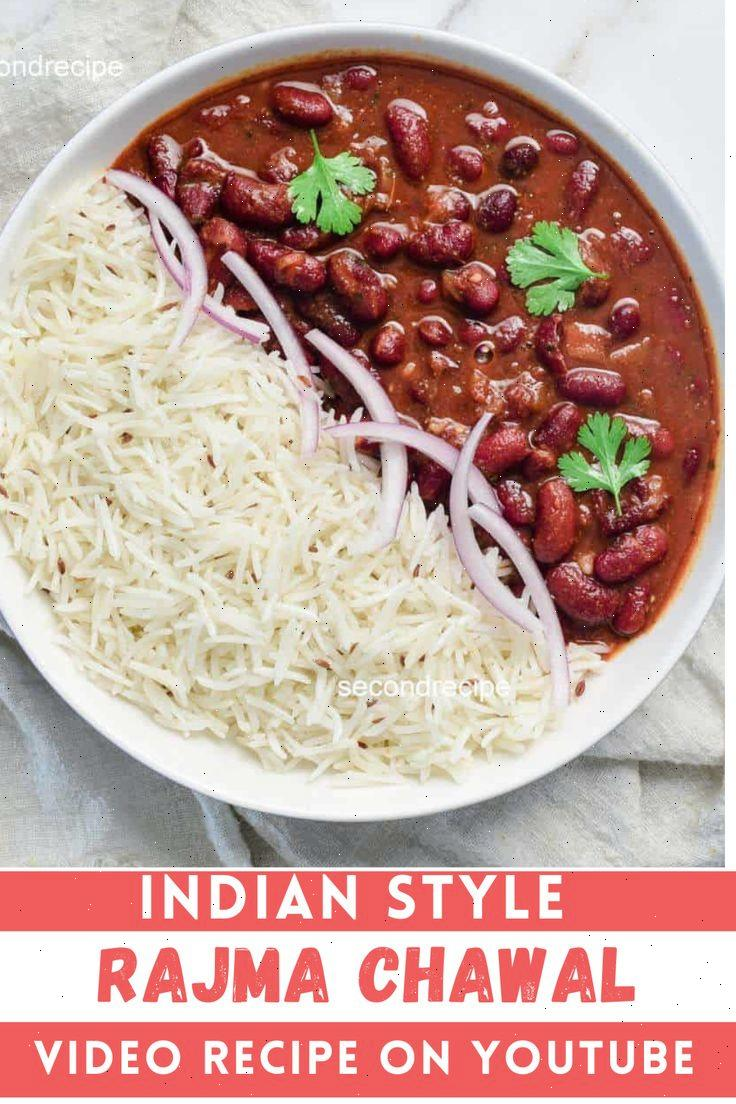rajma: (280, 70, 723, 453)
rice: (17, 433, 420, 793)
